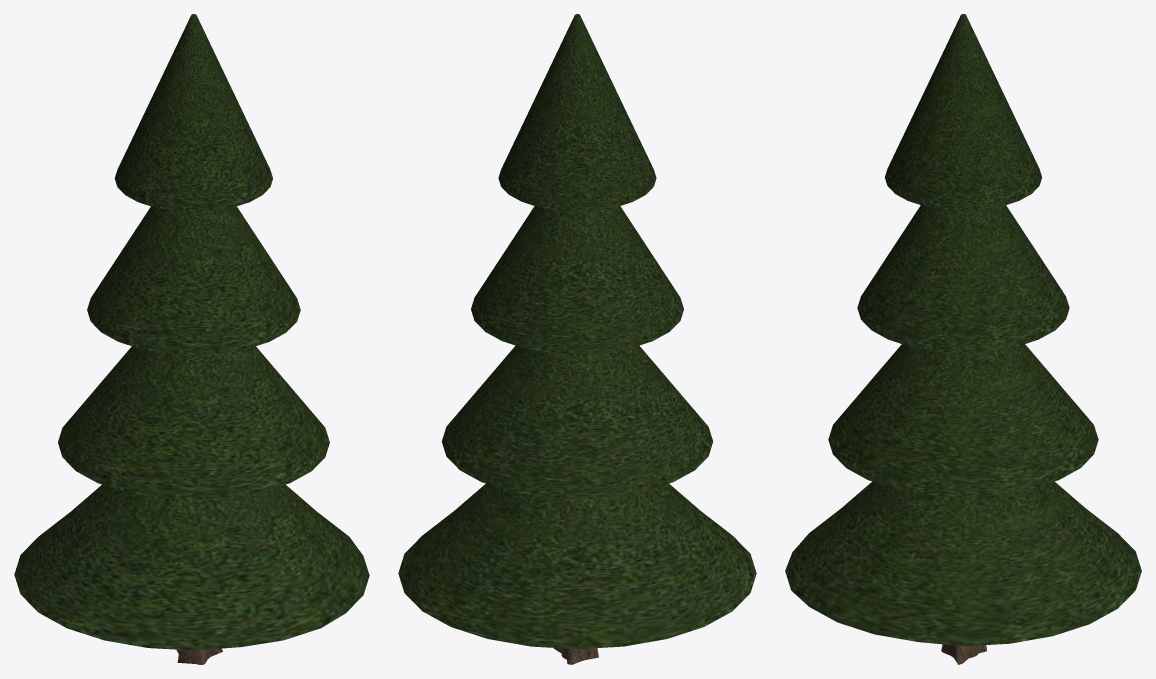
The model's file is PineTree.FBX.
The picture shows the model from 3 angles, left to right: view 1: azimuth 30°, elevation 25°; view 2: azimuth 150°, elevation 25°; view 3: azimuth 270°, elevation 25°; orthographic projection.
Parts seen in each view (by area): view 1: Cone006, Cone007, Cone005, Cone008, Tree trunk001; view 2: Cone006, Cone007, Cone005, Cone008; view 3: Cone006, Cone007, Cone005, Cone008, Tree trunk001.
Part boxes in pixels (x1,y1,x2,y2): Cone006: [14, 484, 369, 650]; Cone007: [58, 346, 329, 499]; Cone005: [87, 206, 300, 354]; Cone008: [114, 14, 272, 211]; Tree trunk001: [176, 648, 222, 664]; Cone006: [398, 483, 756, 649]; Cone007: [441, 345, 713, 498]; Cone005: [471, 206, 683, 354]; Cone008: [498, 14, 656, 211]; Cone006: [785, 481, 1141, 646]; Cone007: [828, 344, 1098, 496]; Cone005: [857, 205, 1069, 352]; Cone008: [885, 14, 1041, 210]; Tree trunk001: [941, 644, 986, 664].
Size of the model in its own units: 116 by 228 by 116.
